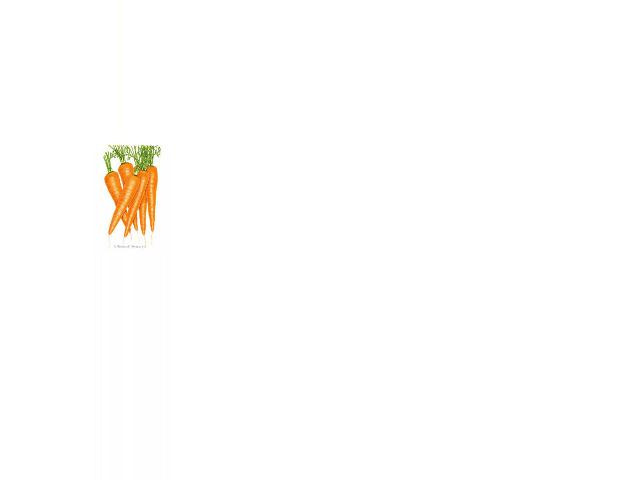carrot: (130, 169, 149, 244)
